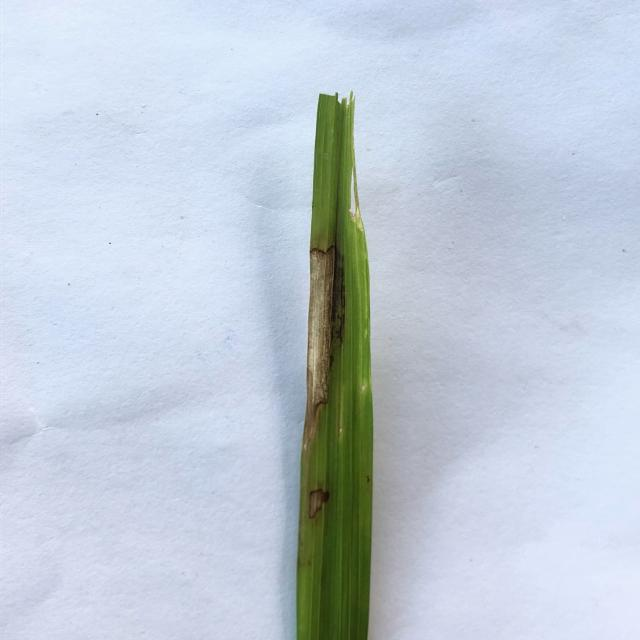leaf blight: (302, 243, 349, 457), (302, 481, 334, 525)
